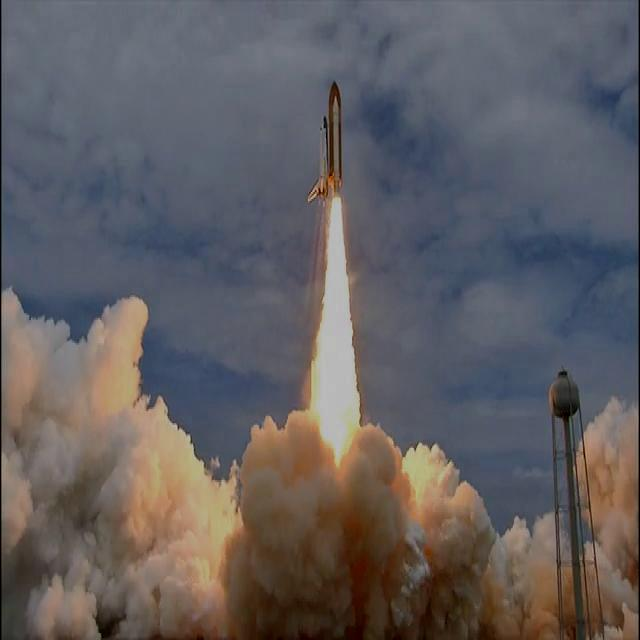fire: (316, 378, 356, 442), (318, 320, 354, 368), (323, 286, 352, 317), (326, 238, 344, 272), (328, 196, 343, 232)
smoke: (3, 384, 138, 638), (141, 506, 303, 640), (388, 558, 498, 638), (307, 542, 394, 640), (310, 468, 416, 540), (492, 538, 552, 638), (22, 318, 82, 398), (84, 341, 135, 434), (417, 462, 460, 558), (239, 453, 302, 507), (136, 406, 166, 504), (258, 420, 312, 460), (195, 474, 238, 524), (2, 292, 23, 380), (168, 432, 192, 509), (98, 307, 138, 348), (461, 498, 482, 551), (359, 432, 386, 464)
